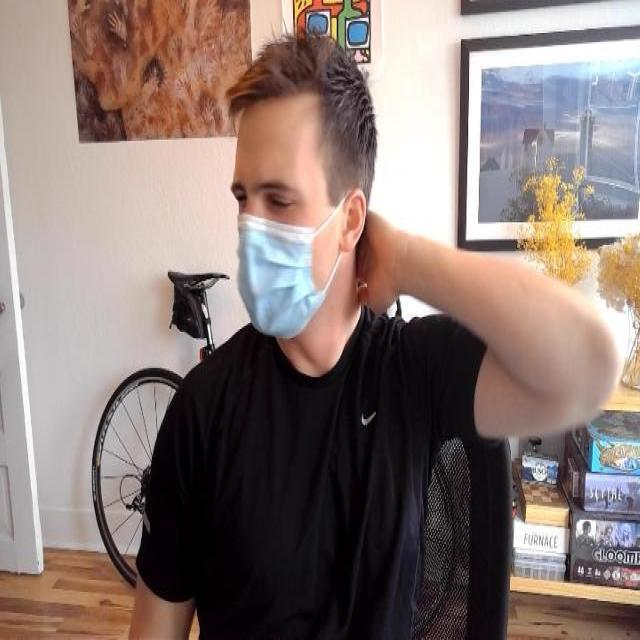bare_hand: (355, 207, 431, 325)
